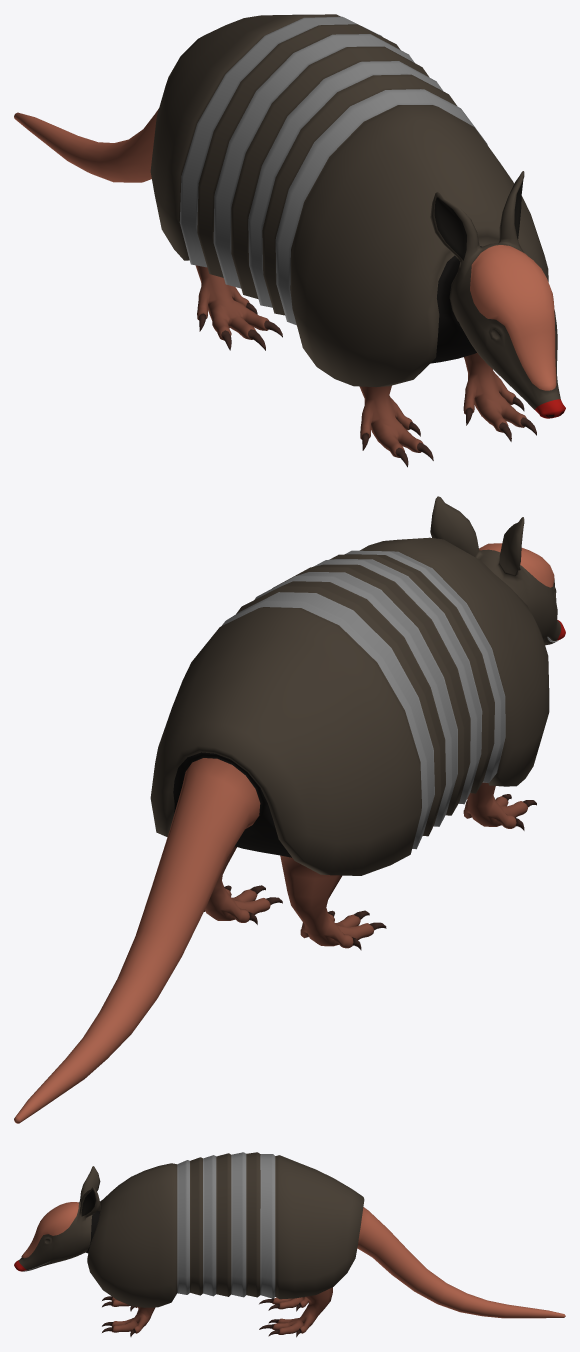
The model's file is armadillo_armadillo.obj.
3 views of the same model, one above another, from view 1: azimuth 30°, elevation 25°; view 2: azimuth 150°, elevation 25°; view 3: azimuth 270°, elevation 25° (orthographic). The views are drawn at different scales.
Parts seen in each view (by area): view 1: armadillo; view 2: armadillo; view 3: armadillo.
Part boxes in pixels (<box>): armadillo: <box>14,14,565,467</box>; armadillo: <box>14,496,565,1123</box>; armadillo: <box>14,1152,565,1337</box>.
Bounding box in the file's own units: 0.2625 × 0.3197 × 0.9958.
